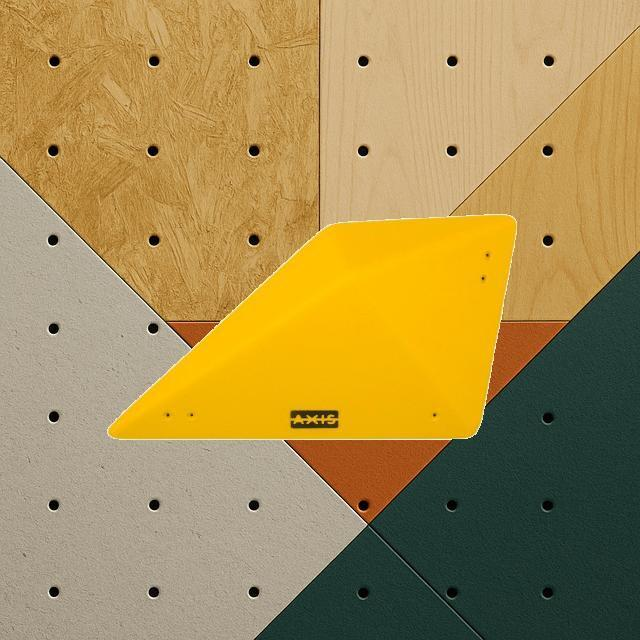Volume: (107, 213, 519, 439)
